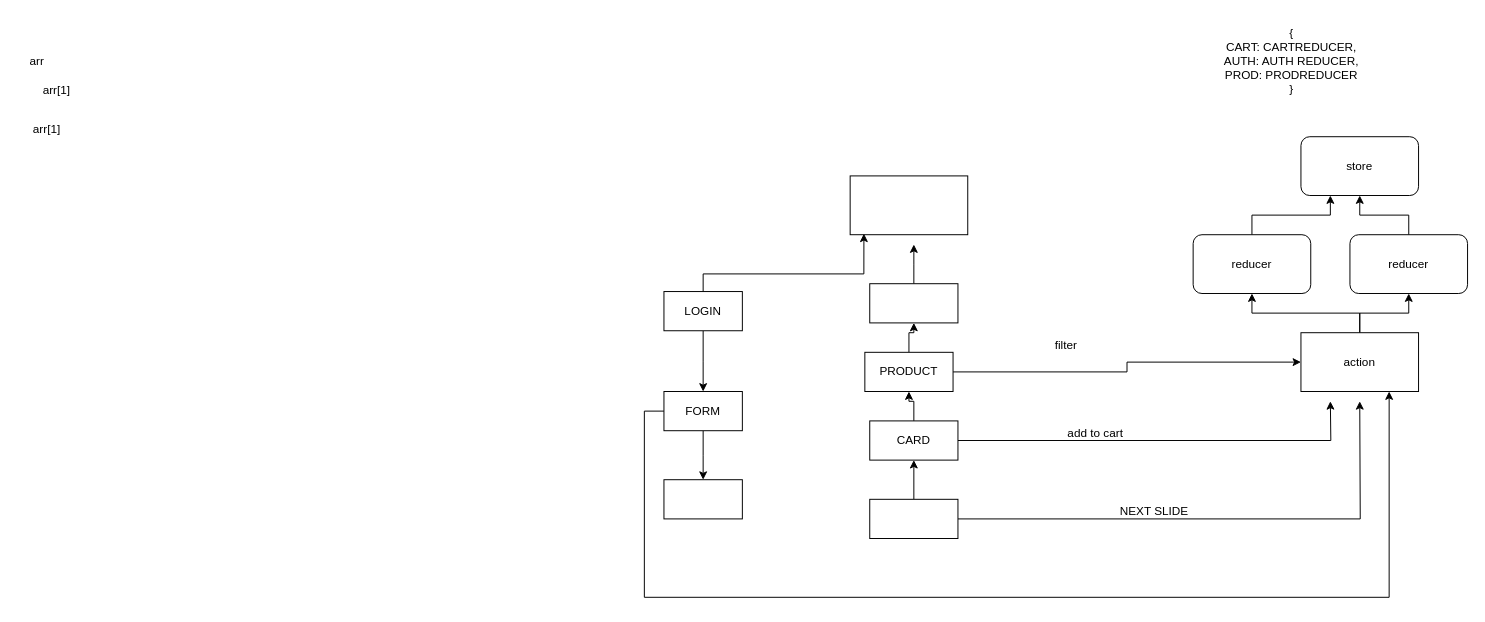
The diagram is 1485 pixels wide and 622 high, and some of its shapes have lost their labels. Here are the shapes that lost their labels. From the top down, the centre of each, then its label:
At pixel 908 205: "MAIN - <> APP </>".
At pixel 913 303: "HOME".
At pixel 702 499: "INPUT".
At pixel 913 518: "IMAGES".
